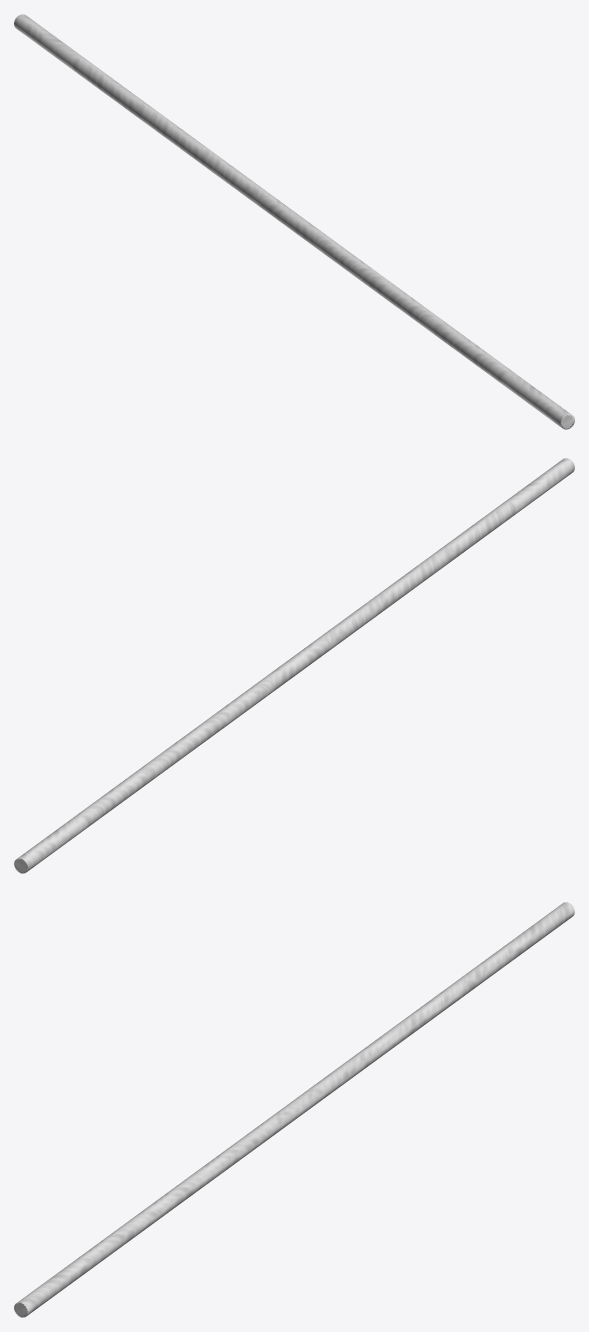
Rendered from Himo.fbx.
3 renders of one model, top to bottom at view 1: azimuth 30°, elevation 25°; view 2: azimuth 150°, elevation 25°; view 3: azimuth 330°, elevation 25°, orthographic.
Visible parts, largest first — view 1: Himo1; view 2: Himo1; view 3: Himo1.
Part boxes in pixels (x1,y1,x2,y2): Himo1: [14, 14, 574, 429]; Himo1: [14, 458, 574, 873]; Himo1: [14, 902, 574, 1317].
Bounding box in the file's own units: 0.2465 × 0.2465 × 16.08.
Materials: 1 (1 with a texture image).
